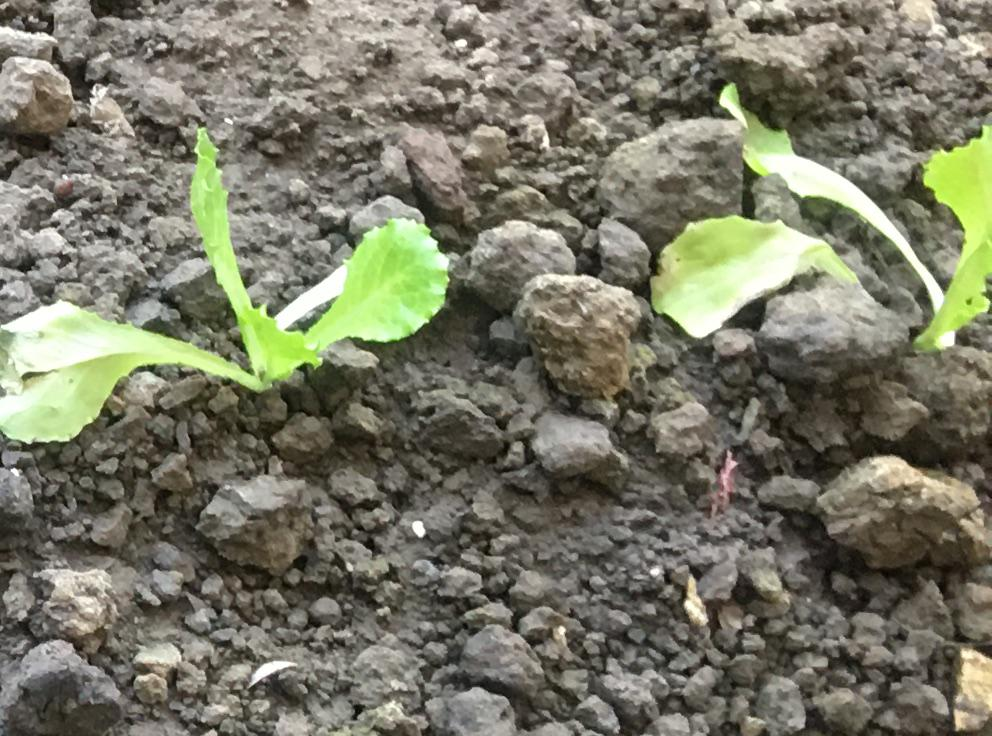block: (823, 457, 990, 573), (598, 114, 748, 236), (515, 274, 632, 399), (771, 283, 909, 384), (1, 639, 123, 735), (201, 477, 307, 577), (32, 566, 117, 643), (1, 53, 71, 142)
